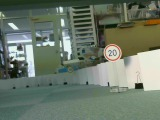speed_20: (103, 44, 122, 63)
